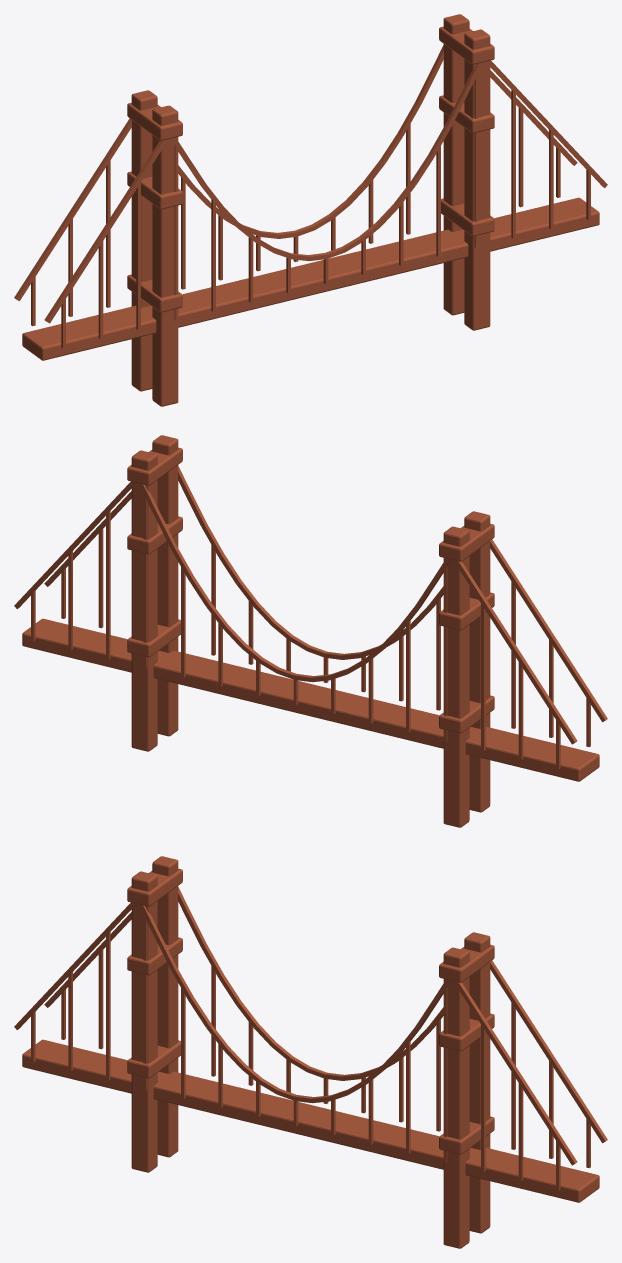
The model's file is golden_gate_backdrop.glb.
The picture shows the model from 3 angles, top to bottom: view 1: azimuth 30°, elevation 25°; view 2: azimuth 150°, elevation 25°; view 3: azimuth 330°, elevation 25°; orthographic projection.
Parts seen in each view (by area): view 1: golden_gate_backdrop; view 2: golden_gate_backdrop; view 3: golden_gate_backdrop.
Part boxes in pixels (bbox=[...]): golden_gate_backdrop: bbox=[14, 14, 607, 406]; golden_gate_backdrop: bbox=[14, 435, 607, 827]; golden_gate_backdrop: bbox=[14, 856, 607, 1248].
Bounding box in the file's own units: 3.42 × 1.7 × 0.36.
